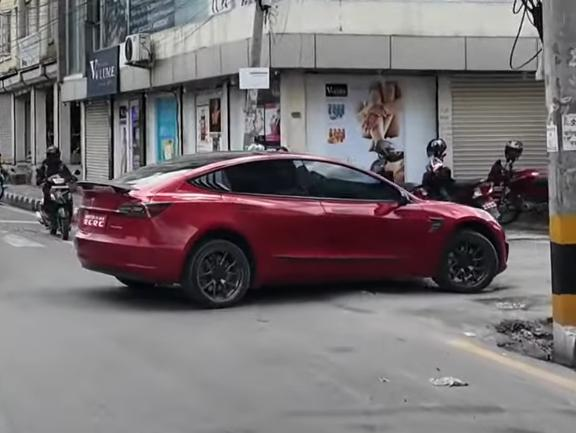bike: (486, 156, 551, 224)
car: (60, 137, 517, 311)
scooter: (31, 168, 81, 242)
